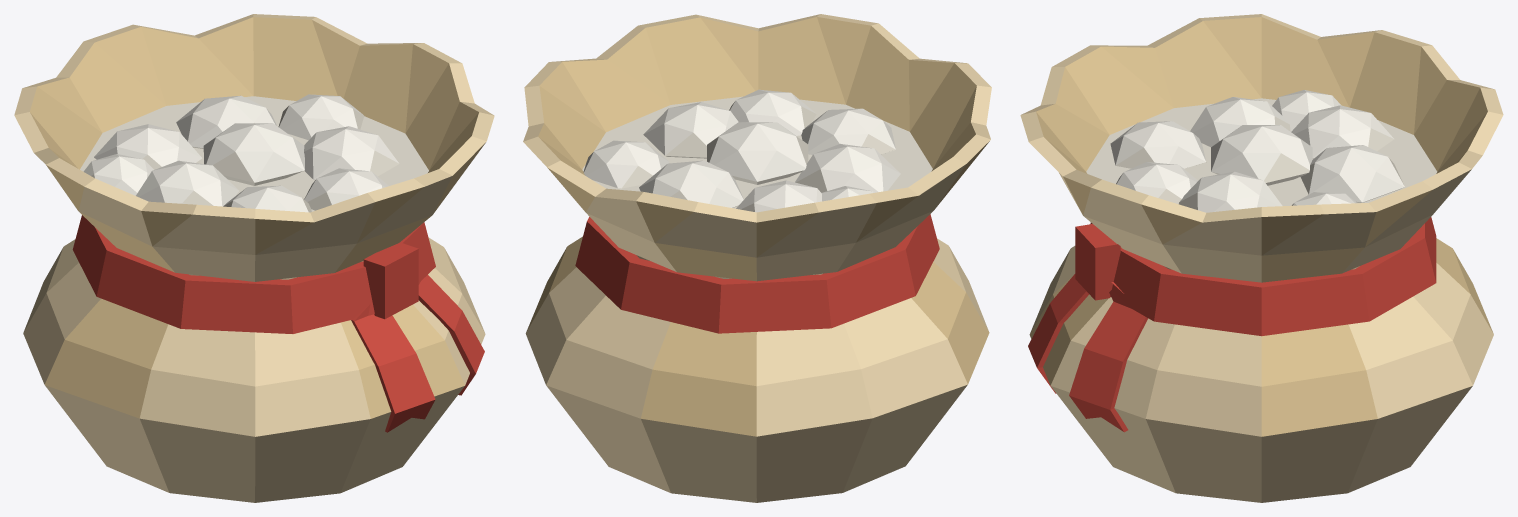
The model's file is FMS_Workshop_PRD_04.fbx.
3 renders of one model, left to right at view 1: azimuth 30°, elevation 25°; view 2: azimuth 150°, elevation 25°; view 3: azimuth 270°, elevation 25°, orthographic.
Parts seen in each view (by area): view 1: FMS_Workshop_PRD_04_Body; view 2: FMS_Workshop_PRD_04_Body; view 3: FMS_Workshop_PRD_04_Body.
Part boxes in pixels (bbox=[...]): FMS_Workshop_PRD_04_Body: bbox=[14, 14, 494, 502]; FMS_Workshop_PRD_04_Body: bbox=[523, 14, 991, 502]; FMS_Workshop_PRD_04_Body: bbox=[1020, 14, 1503, 502].
Bounding box in the file's own units: 0.25 × 0.1825 × 0.25.
1 material, 1 textured.
